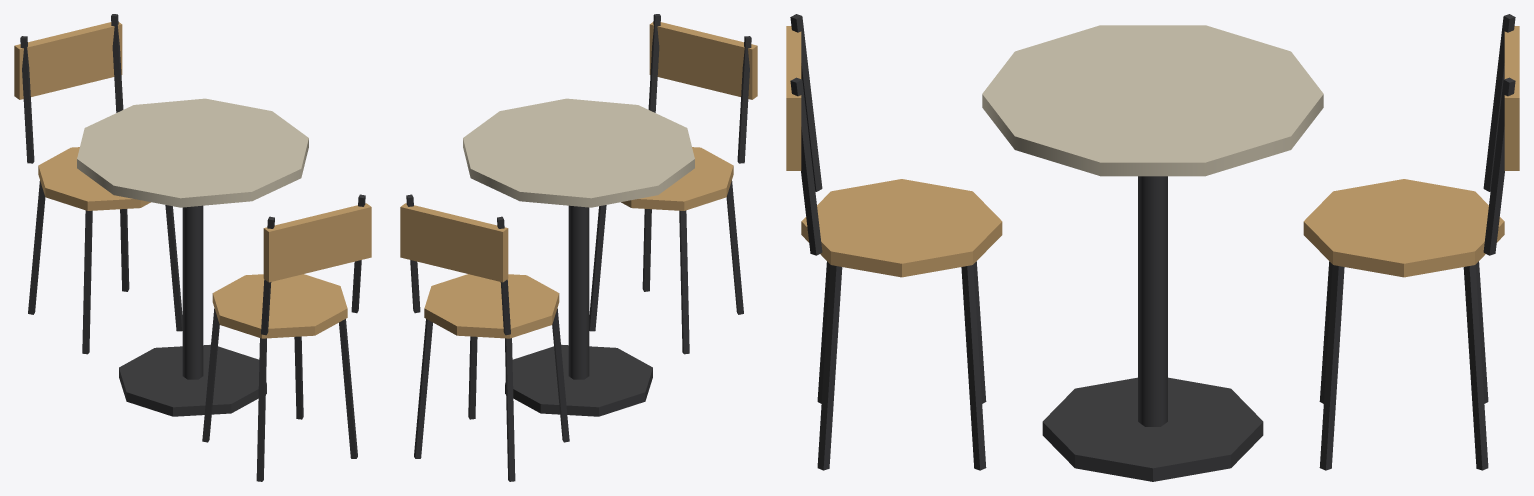
File: cafe_table.glb
3 views of the same model, side by side, from view 1: azimuth 30°, elevation 25°; view 2: azimuth 150°, elevation 25°; view 3: azimuth 270°, elevation 25° (orthographic). The views are drawn at different scales.
Parts seen in each view (by area): view 1: cafe_table; view 2: cafe_table; view 3: cafe_table.
Boxes of the visible parts, bbox=[...] form: cafe_table: bbox=[14, 14, 371, 481]; cafe_table: bbox=[400, 14, 757, 481]; cafe_table: bbox=[786, 14, 1519, 481].
Size of the model in its own units: 0.6467 by 0.852 by 1.46.
1 material, 1 textured.
